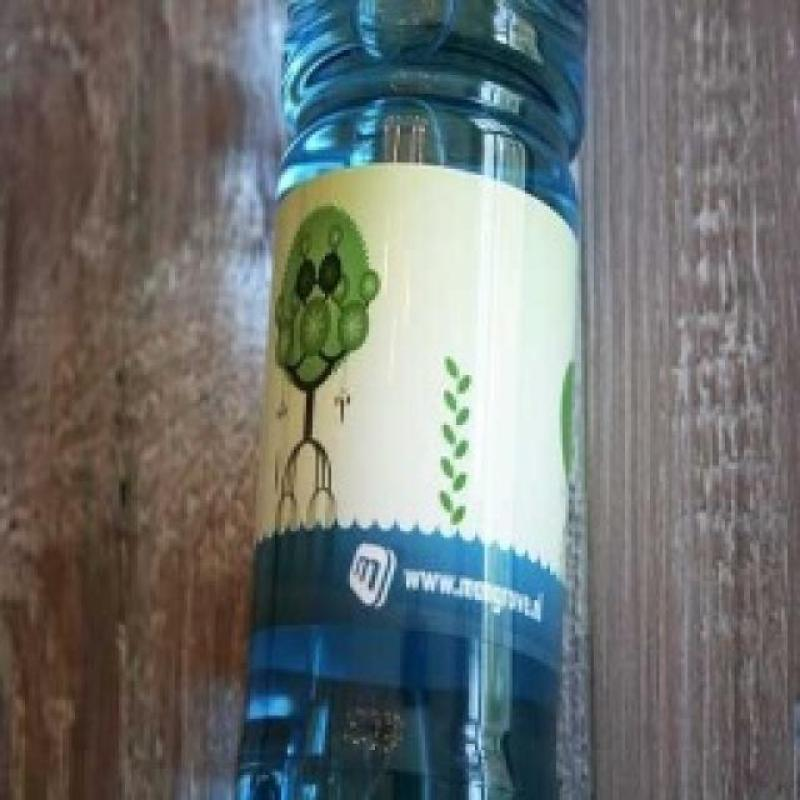botella: (236, 0, 592, 800)
